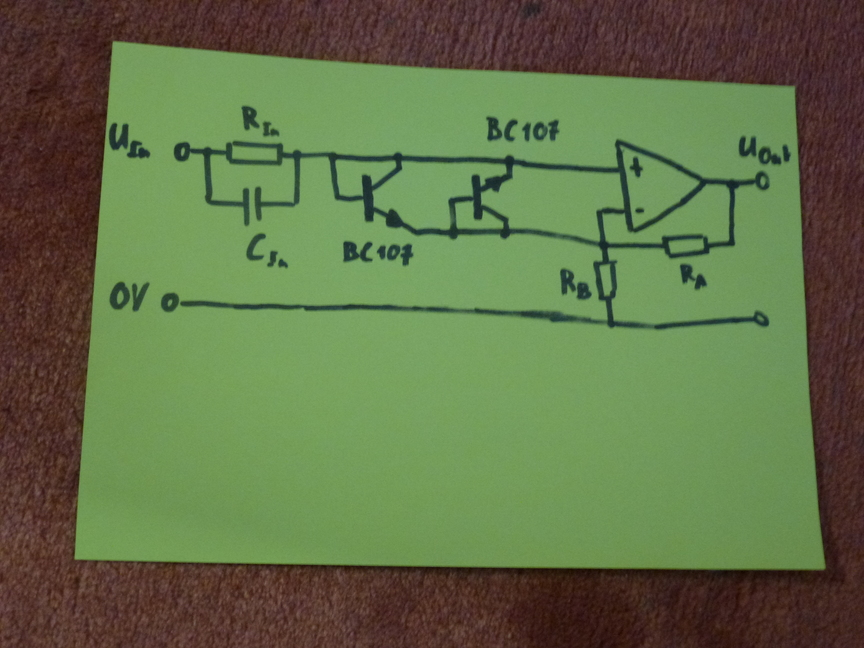capacitor.unpolarized: (239, 185, 268, 228)
junction: (724, 176, 740, 191), (596, 238, 612, 252), (447, 226, 461, 241), (499, 226, 513, 241), (604, 316, 618, 331), (503, 153, 516, 168), (202, 194, 216, 207), (392, 150, 405, 163), (291, 148, 303, 161), (326, 150, 339, 162), (594, 206, 607, 218), (445, 196, 459, 207), (202, 146, 213, 158), (290, 199, 301, 210), (332, 193, 344, 203), (726, 237, 736, 249)
operational_amplifier: (614, 137, 707, 234)
resistor: (223, 139, 285, 168), (659, 234, 711, 259), (592, 258, 619, 302)
terminal: (159, 291, 182, 314), (173, 141, 192, 162), (753, 170, 771, 192), (752, 309, 771, 328)
text: (484, 114, 562, 143), (342, 239, 415, 269), (737, 134, 792, 167), (107, 122, 153, 161), (245, 232, 290, 270), (239, 103, 281, 138), (108, 280, 151, 313), (558, 266, 593, 302), (679, 262, 709, 292)
transistor: (360, 166, 418, 237), (470, 171, 514, 223)
